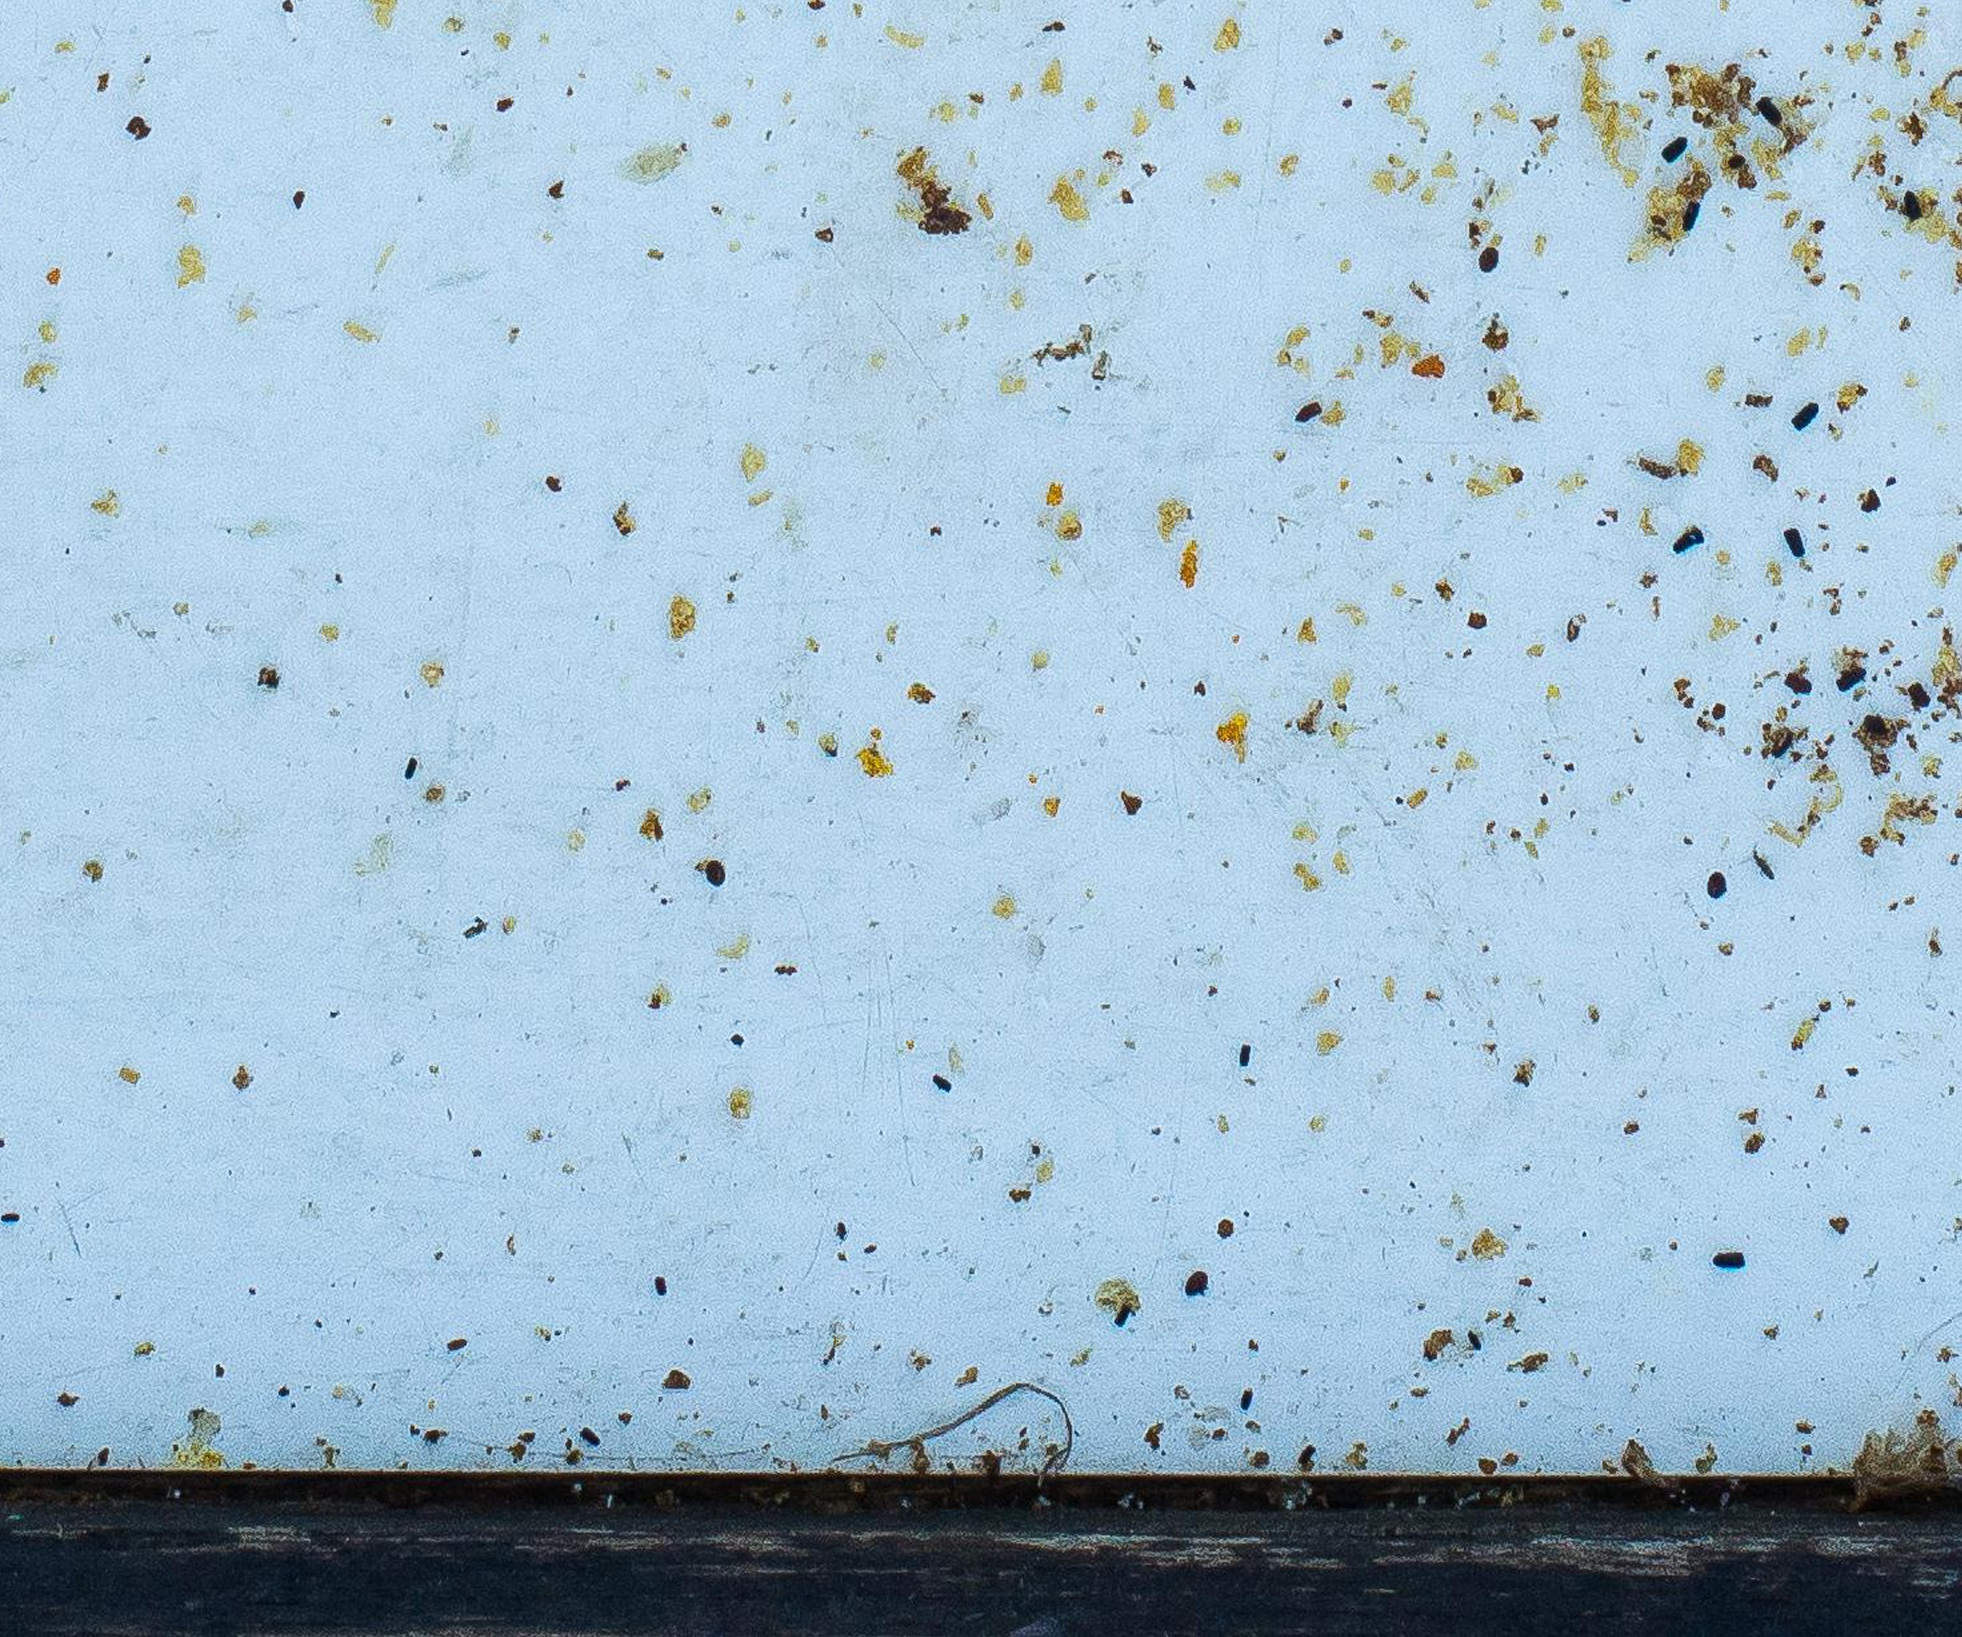Varroa: (1178, 1267, 1212, 1303), (701, 854, 735, 889), (1473, 241, 1506, 277), (1701, 868, 1734, 901)
